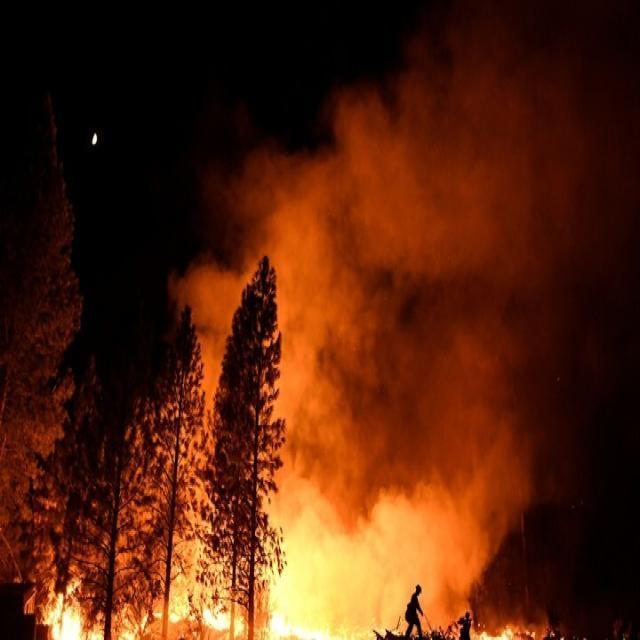Fire: (52, 604, 324, 640), (478, 629, 512, 640)
Smoke: (0, 268, 530, 597), (234, 44, 578, 262)
